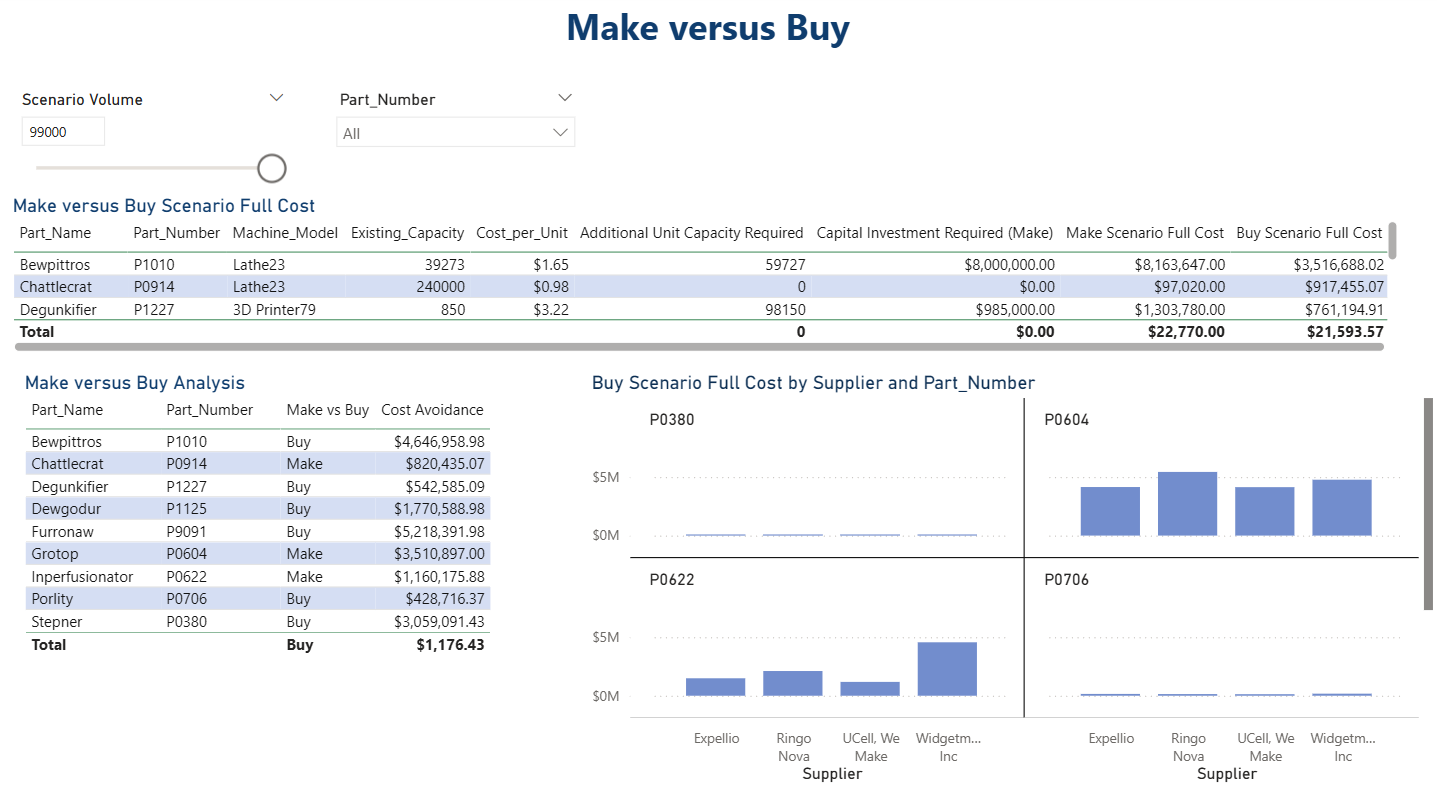

Layout of this report page (visuals, bound fields, positions):
{"tool":"powerbi","page":{"name":"Make versus Buy Analysis","canvas":[1280,720],"ordinal":2},"visuals":[{"type":"slicer","fields":{"Values":["Scenario Volume.Scenario Volume"]},"box":[9.8,79.7,257.7,150.7],"z":0},{"type":"tableEx","title":"Make versus Buy Scenario Full Cost","fields":{"Values":["Part_Number (Product_Dimension).Part_Name","Part_Number (Product_Dimension).Part_Number","Machine_Model (Internal_Mfg_Resource_Estimates).Machine_Model","Machine_Model (Internal_Mfg_Resource_Estimates).Existing_Capacity","Machine_Model (Internal_Mfg_Resource_Estimates).Cost_per_Unit","Machine_Model (Internal_Mfg_Resource_Estimates).Additional Unit Capacity Required","Machine_Model (Internal_Mfg_Resource_Estimates).Capital Investment Required (Make)","Machine_Model (Internal_Mfg_Resource_Estimates).Make Scenario - Full Cost","Scenario Volume.Buy Scenario Full Cost"]},"box":[9.4,176.7,1238.5,144.6],"z":1000},{"type":"slicer","fields":{"Values":["Part_Number (Product_Dimension).Part_Number"]},"box":[291.6,79.7,231.5,75.4],"z":2000},{"type":"textbox","box":[499.8,0,279.7,64.3],"z":3000},{"type":"tableEx","title":"Make versus Buy Analysis","fields":{"Values":["Part_Number (Product_Dimension).Part_Name","Part_Number (Product_Dimension).Part_Number","Scenario Volume.Make vs Buy","Scenario Volume.Cost Avoidance"]},"box":[20.8,333.1,445.6,263.2],"z":4000},{"type":"clusteredColumnChart","fields":{"Y":["Scenario Volume.Buy Scenario Full Cost"],"Category":["Quotes.Supplier"],"Rows":["Quotes.Part_Number"]},"box":[523.1,333.1,756.9,371.3],"z":5000}]}

Visuals, with their boxes in screenshot pixels (x1, y1, x2, y2), scaled from the page's 1280x720 canvas onto the 1437x804 screenshot:
slicer - Scenario Volume.Scenario Volume: [11, 89, 300, 257]
"Make versus Buy Scenario Full Cost" tableEx: [11, 197, 1401, 359]
slicer - Part_Number (Product_Dimension).Part_Number: [327, 89, 587, 173]
textbox: [561, 0, 875, 72]
"Make versus Buy Analysis" tableEx: [23, 372, 524, 666]
clusteredColumnChart - Scenario Volume.Buy Scenario Full Cost x Quotes.Supplier: [587, 372, 1436, 787]
